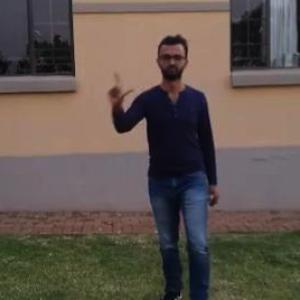land_hand: (102, 68, 134, 108)
